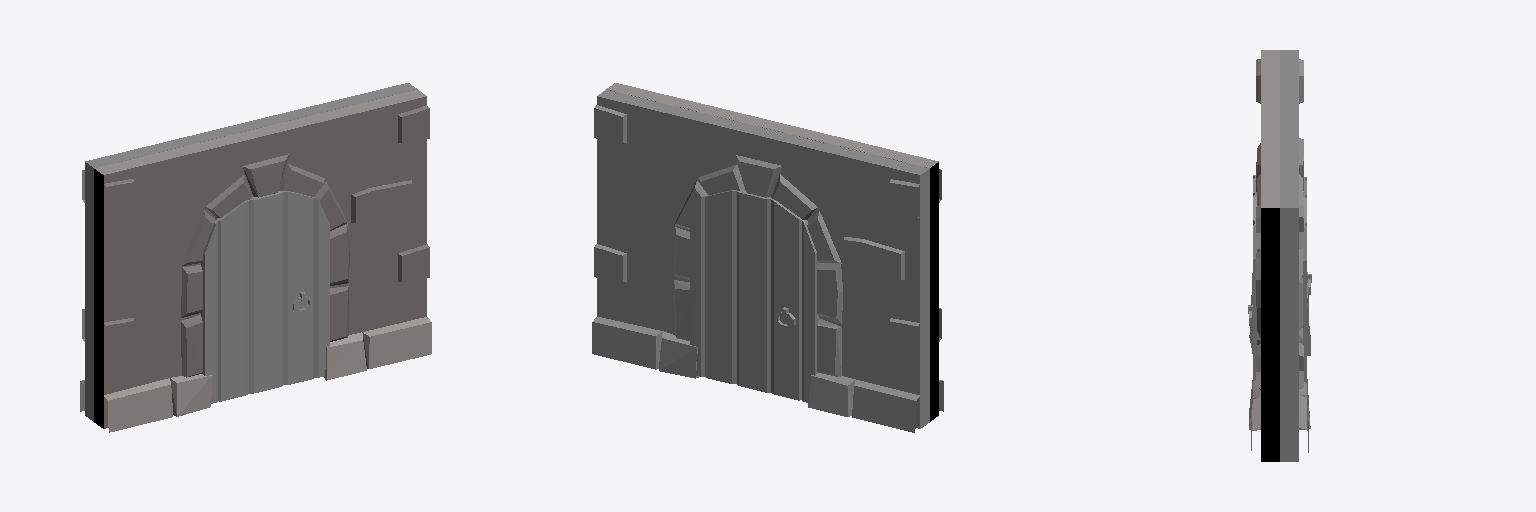
The picture shows the model from 3 angles: view 1: azimuth 30°, elevation 25°; view 2: azimuth 150°, elevation 25°; view 3: azimuth 270°, elevation 25°; orthographic projection.
Parts seen in each view (by area): view 1: dungeon-door-stone_50.001, SM_Prop_Church_Door_01_65.002, dungeon-door-stone_50.002; view 2: dungeon-door-stone_50.002, SM_Prop_Church_Door_01_65.001, dungeon-door-stone_50.001; view 3: dungeon-door-stone_50.002, dungeon-door-stone_50.001, SM_Prop_Church_Door_01_65.001, SM_Prop_Church_Door_01_65.002.
Part boxes in pixels (left/top/right/bottom): dungeon-door-stone_50.001: left=94, top=90, right=431, bottom=432; SM_Prop_Church_Door_01_65.002: left=201, top=191, right=329, bottom=403; dungeon-door-stone_50.002: left=80, top=83, right=417, bottom=421; dungeon-door-stone_50.002: left=592, top=90, right=929, bottom=432; SM_Prop_Church_Door_01_65.001: left=690, top=190, right=818, bottom=402; dungeon-door-stone_50.001: left=606, top=83, right=943, bottom=421; dungeon-door-stone_50.002: left=1280, top=50, right=1310, bottom=461; dungeon-door-stone_50.001: left=1249, top=50, right=1279, bottom=461; SM_Prop_Church_Door_01_65.001: left=1302, top=177, right=1311, bottom=382; SM_Prop_Church_Door_01_65.002: left=1248, top=175, right=1256, bottom=380.
Size of the model in its own units: 4 by 3 by 0.6777.
4 materials, 1 textured.